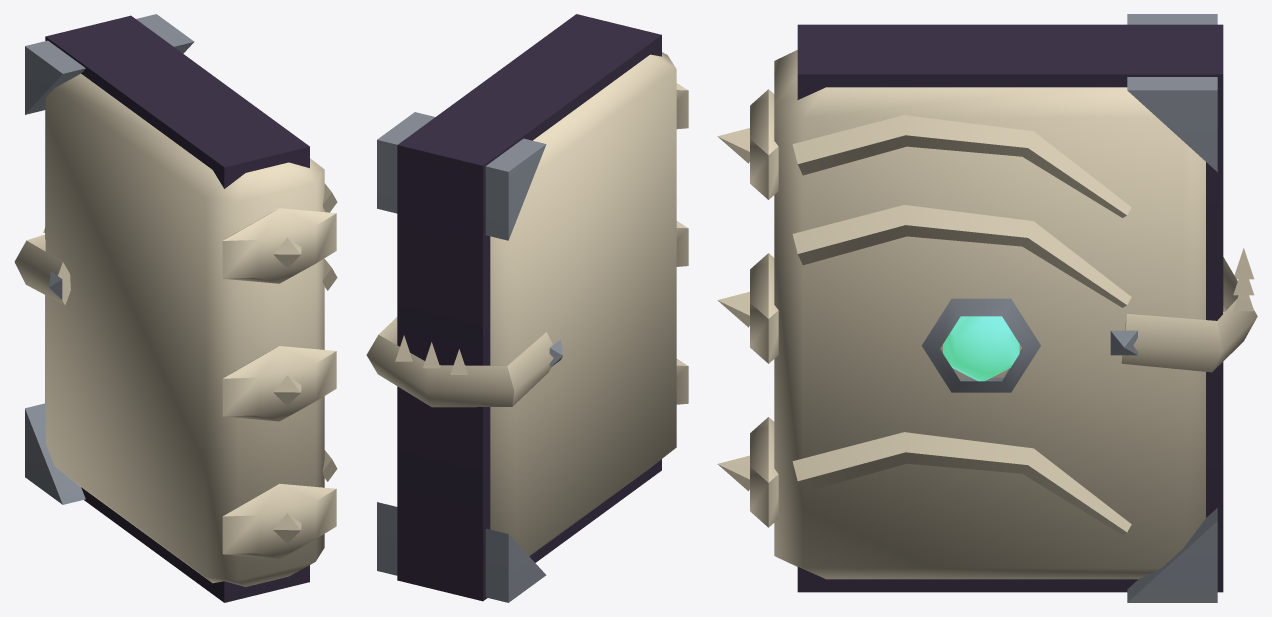
File: bone-tome-2.glb
The picture shows the model from 3 angles, left to right: view 1: azimuth 30°, elevation 25°; view 2: azimuth 150°, elevation 25°; view 3: azimuth 270°, elevation 25°; orthographic projection. The views are drawn at different scales.
Visible parts, largest first — view 1: bone-tome-2; view 2: bone-tome-2; view 3: bone-tome-2.
Part boxes in pixels (box(x1,y1,x2,y2)): bone-tome-2: box(14, 14, 337, 602); bone-tome-2: box(366, 14, 688, 602); bone-tome-2: box(717, 14, 1257, 602).
Size of the model in its own units: 0.0764 by 0.196 by 0.1854.
